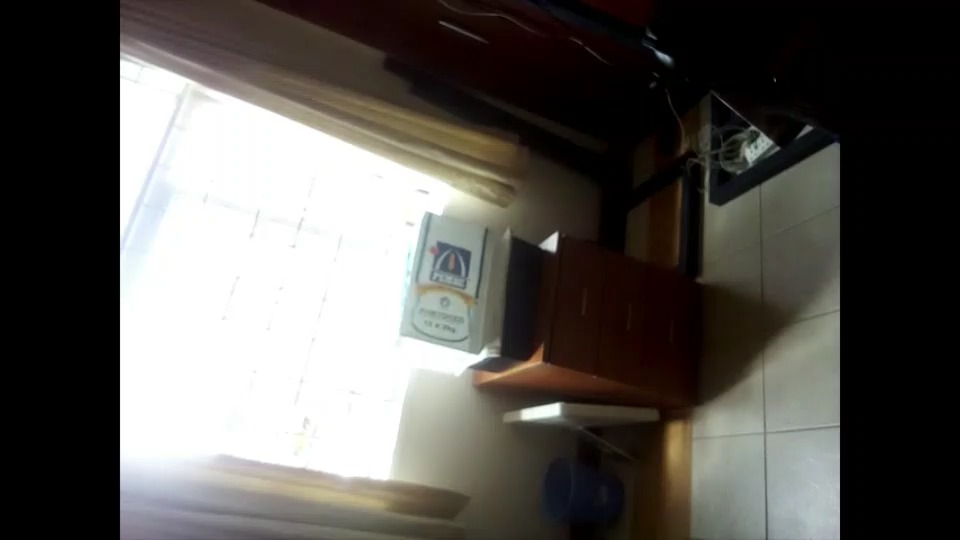wheat_flour_blue_label: (395, 214, 484, 377)
